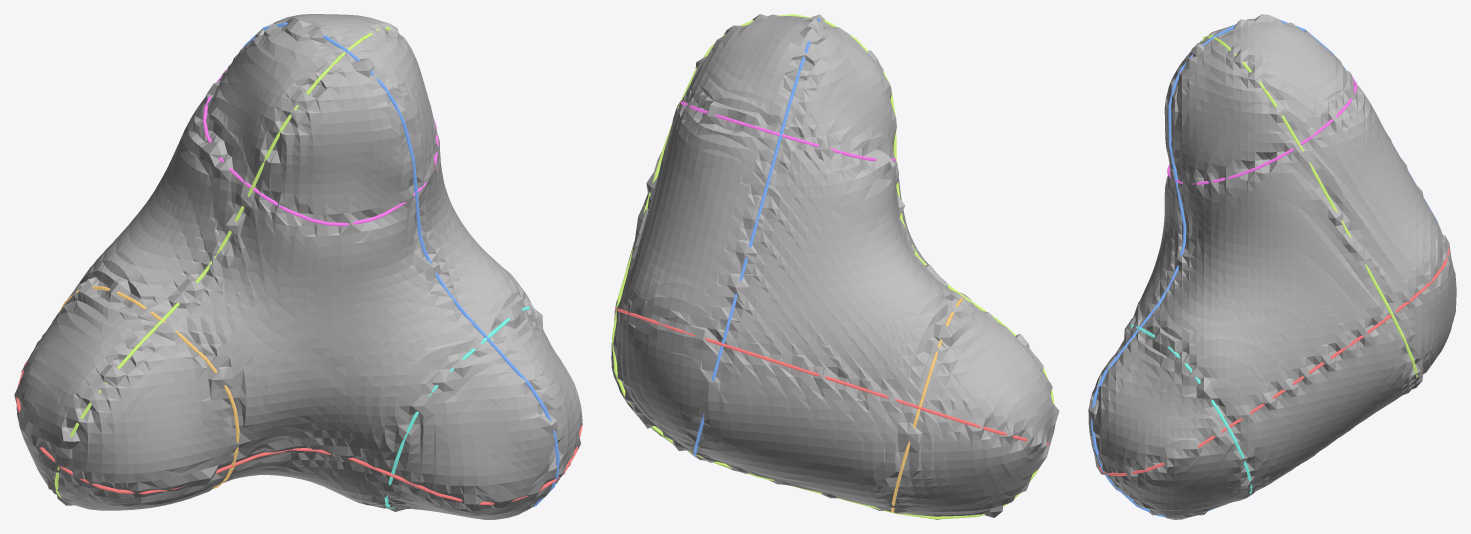
The model's file is flowrep_trebol.gltf.
3 renders of one model, left to right at view 1: azimuth 30°, elevation 25°; view 2: azimuth 150°, elevation 25°; view 3: azimuth 270°, elevation 25°, orthographic. The views are drawn at different scales.
Bounding box in the file's own units: 0.6434 × 0.6279 × 0.4773.
